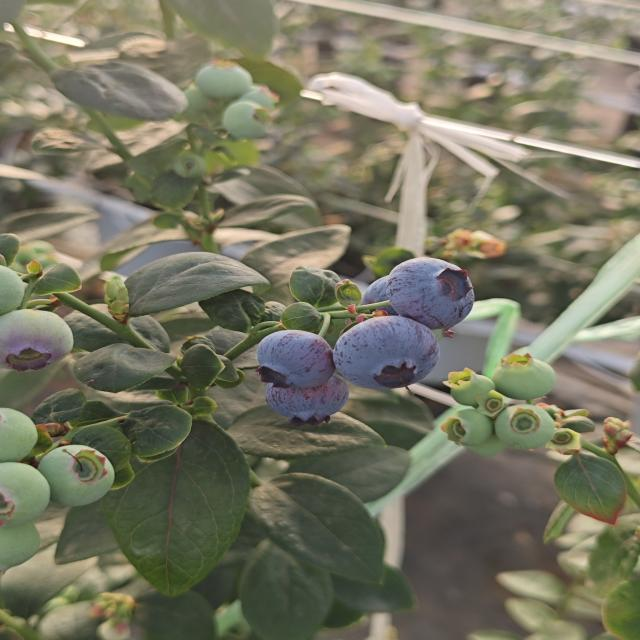ripe: (330, 314, 451, 390), (383, 255, 485, 332), (251, 323, 345, 392), (257, 367, 360, 428), (356, 269, 444, 330)
